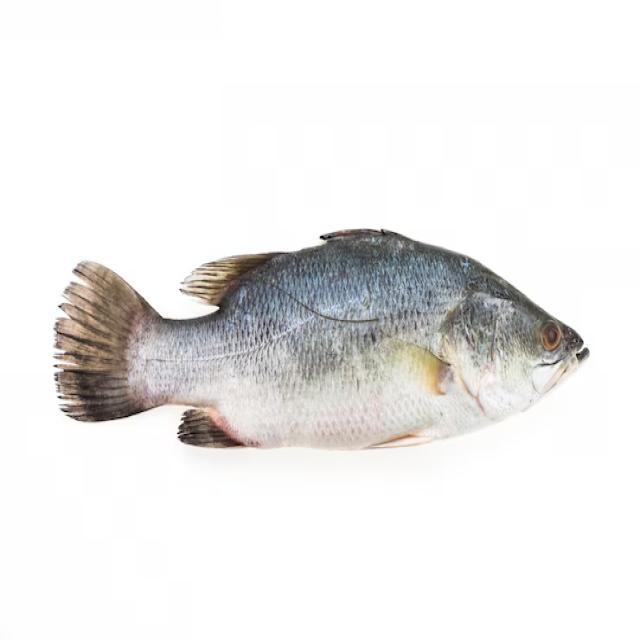Catla: (53, 229, 587, 453)
